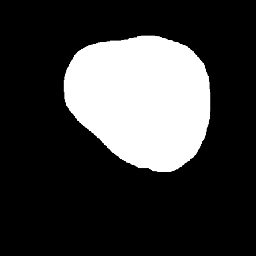mass: (65, 39, 209, 162)
